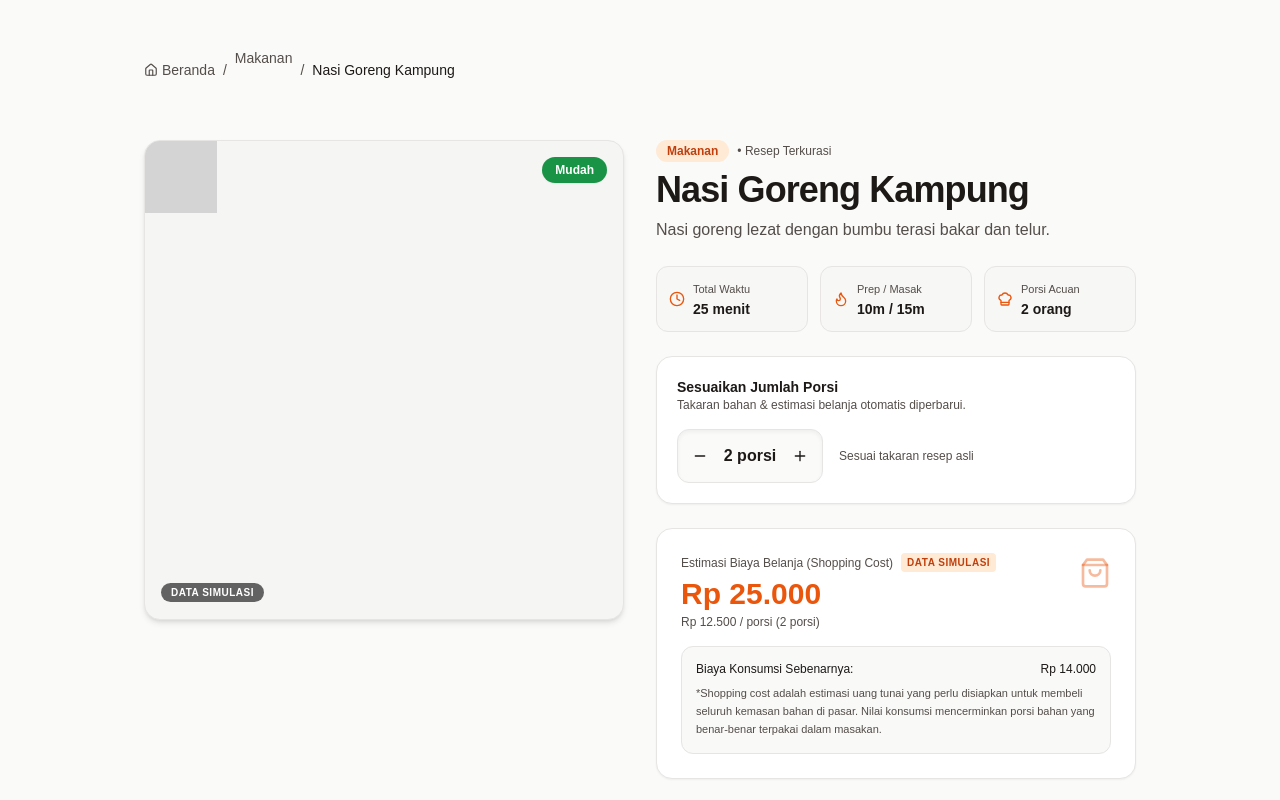
Test case: FE-014: UI Component Tests with React Testing Library › RecipeDetailView Interactive Scaling & Checklist › renders serving controls and allows increasing/decreasing portions
Find increase button
Click the button named "Tambah 1 porsi" at point(800, 456), box [782, 434, 818, 478]
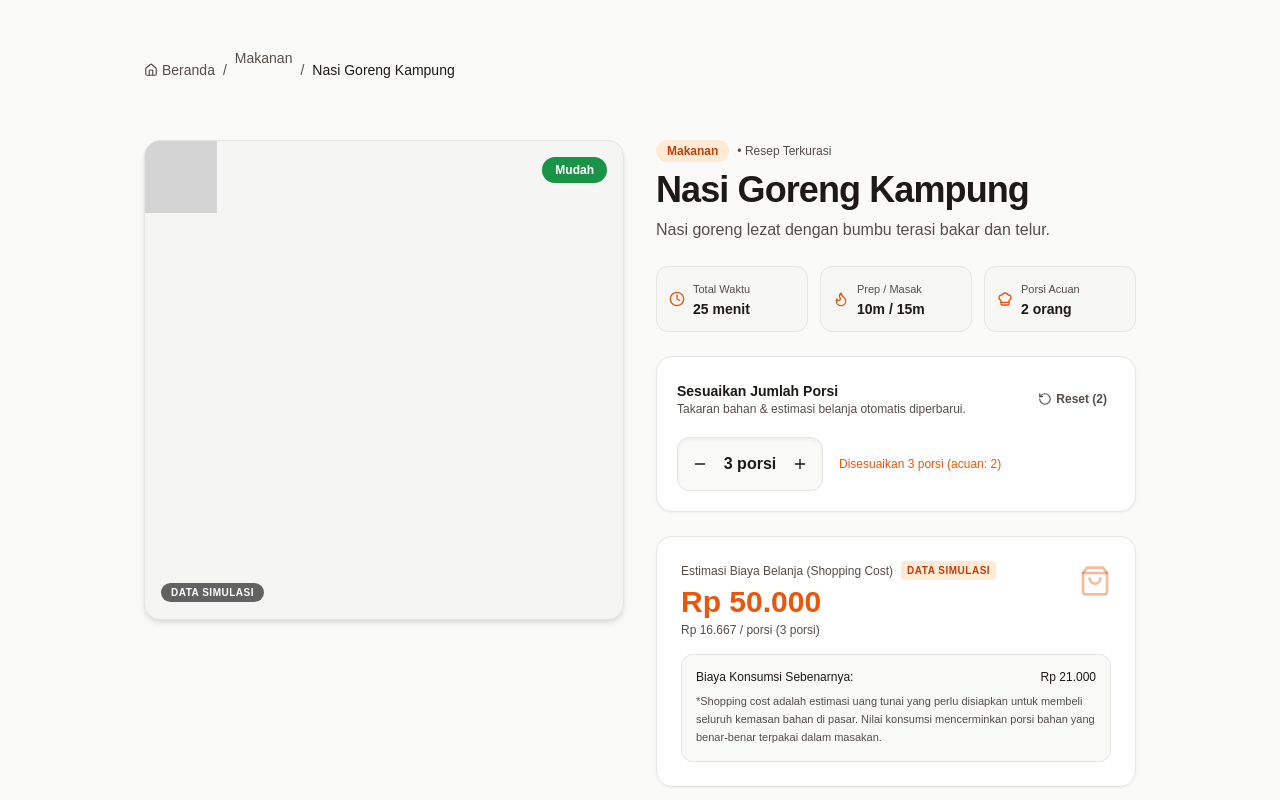
Result: the text "3 porsi" is shown at [724, 455, 776, 472]
